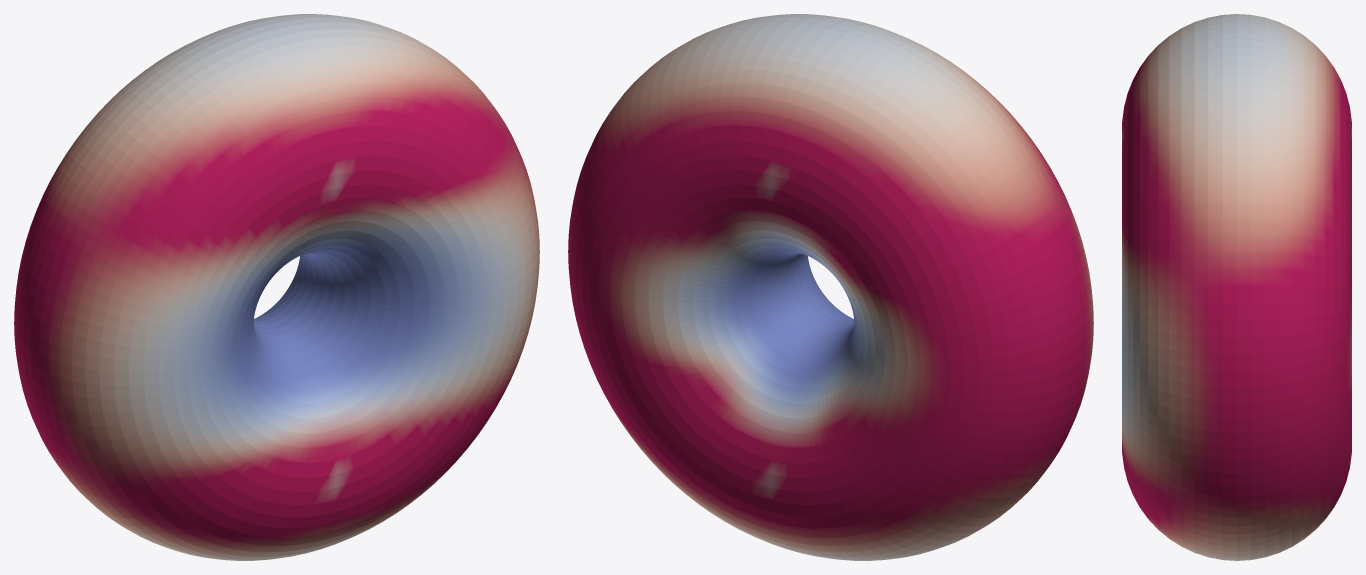
3 renders of one model, left to right at view 1: azimuth 30°, elevation 25°; view 2: azimuth 150°, elevation 25°; view 3: azimuth 270°, elevation 25°, orthographic. The views are drawn at different scales.
Parts seen in each view (by area): view 1: world; view 2: world; view 3: world.
Part boxes in pixels (x1,y1,x2,y2): world: (14, 14, 539, 560); world: (568, 14, 1093, 560); world: (1122, 14, 1351, 560).
Bounding box in the file's own units: 21.87 × 21.87 × 9.18.
